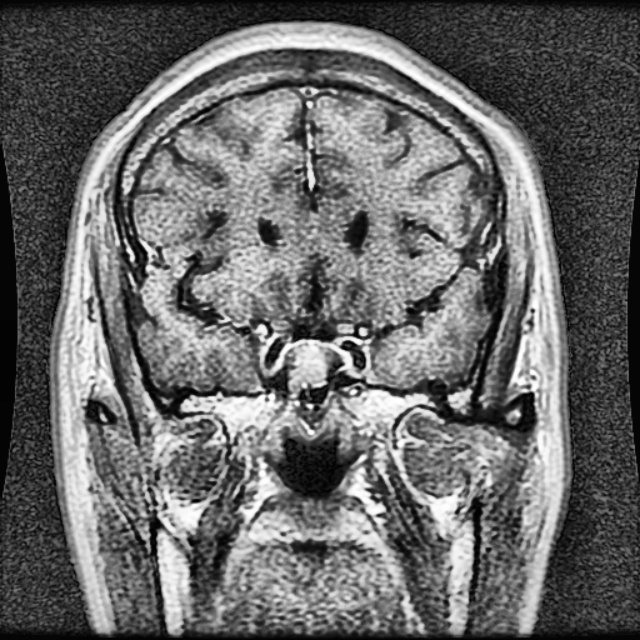Pituitary: (292, 342, 327, 385)
